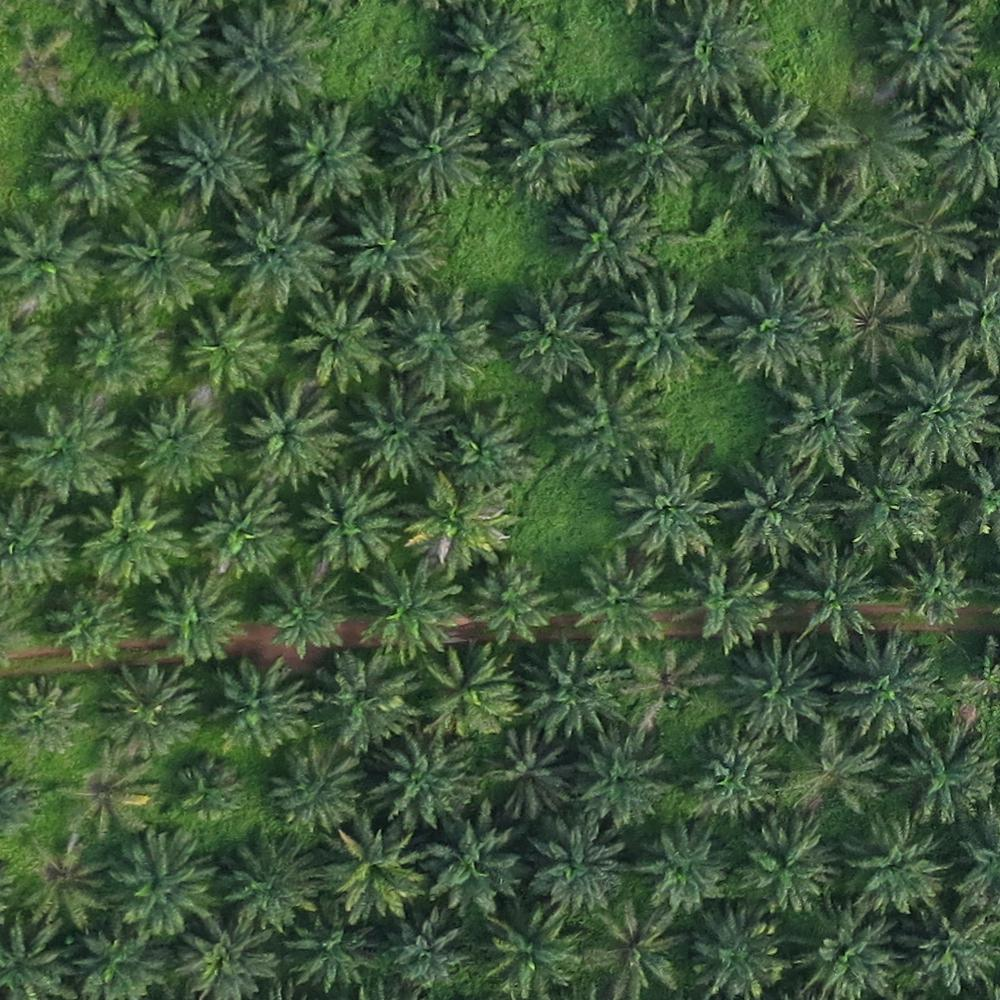Palm: (874, 355, 996, 471), (599, 273, 721, 383), (213, 7, 328, 115), (152, 107, 266, 211), (712, 274, 821, 380), (601, 93, 710, 197), (41, 108, 152, 210), (387, 285, 491, 393), (13, 402, 122, 504), (567, 550, 680, 648), (621, 452, 723, 560), (557, 375, 665, 476), (103, 2, 214, 100), (335, 197, 446, 295), (402, 474, 517, 568), (654, 2, 764, 100), (222, 205, 330, 304), (725, 461, 831, 561), (105, 213, 211, 312), (236, 389, 342, 488), (498, 289, 601, 390), (714, 97, 810, 205), (358, 559, 462, 658), (834, 633, 937, 732), (384, 95, 485, 195), (286, 292, 389, 390), (685, 545, 782, 648), (874, 5, 980, 99), (84, 486, 185, 584), (191, 484, 295, 579), (734, 634, 830, 736), (124, 396, 227, 491), (844, 818, 947, 913), (113, 832, 211, 931), (4, 209, 100, 310), (277, 104, 378, 199), (351, 388, 454, 481), (296, 478, 399, 571), (497, 92, 591, 193), (895, 730, 995, 824), (524, 816, 624, 910), (733, 819, 833, 913), (315, 654, 416, 747), (318, 830, 420, 922), (774, 180, 872, 275), (366, 741, 473, 828), (212, 658, 307, 754), (561, 191, 657, 286), (588, 902, 686, 995), (421, 647, 518, 740), (571, 734, 670, 825), (777, 379, 871, 473), (221, 838, 317, 930), (900, 910, 998, 999), (482, 910, 583, 996), (846, 463, 940, 555), (522, 650, 617, 741), (179, 307, 279, 393), (101, 663, 197, 752), (439, 7, 530, 99), (795, 551, 886, 643), (75, 308, 169, 397), (423, 826, 521, 911), (683, 731, 774, 821), (635, 823, 725, 914), (472, 555, 558, 648), (690, 909, 784, 994), (149, 577, 241, 661), (270, 742, 360, 825), (802, 914, 894, 995), (262, 569, 347, 656), (485, 731, 574, 814), (450, 399, 532, 486), (3, 676, 86, 758), (288, 911, 375, 989), (52, 588, 137, 663), (179, 934, 277, 997), (385, 926, 472, 993), (80, 932, 168, 997), (898, 551, 970, 625)
